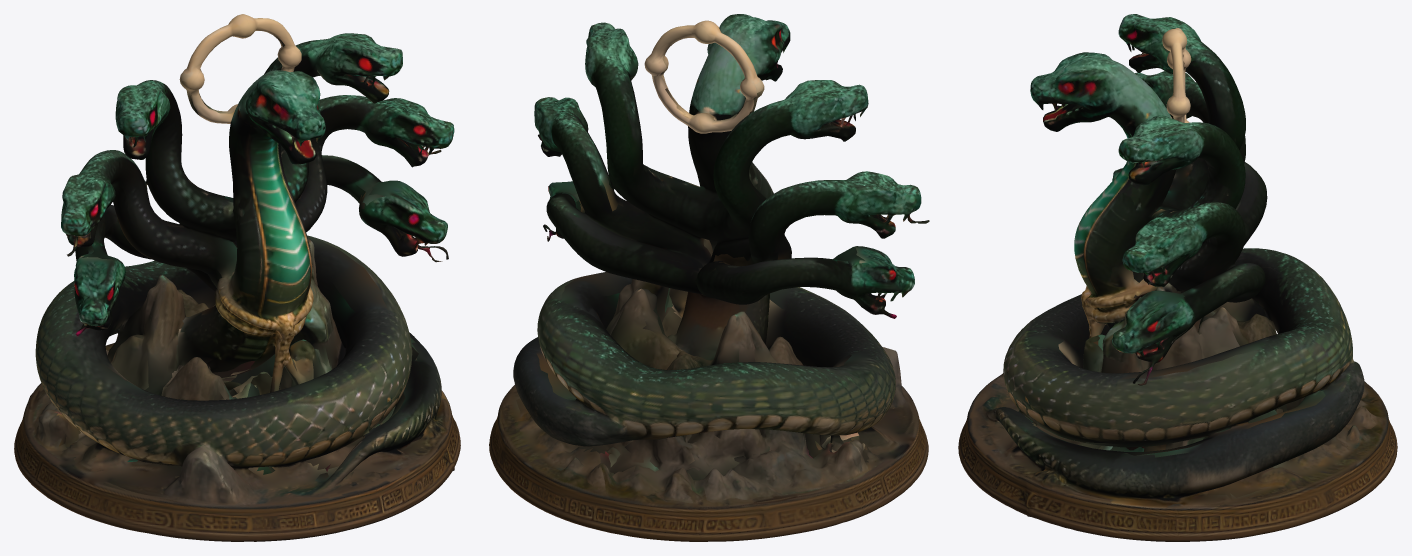
Rendered from orochi.glb.
3 renders of one model, left to right at view 1: azimuth 30°, elevation 25°; view 2: azimuth 150°, elevation 25°; view 3: azimuth 270°, elevation 25°, orthographic. The views are drawn at different scales.
Visible parts, largest first — view 1: texture_pbr_v128; view 2: texture_pbr_v128; view 3: texture_pbr_v128.
Boxes of the visible parts, x1,y1,x2,y2 form: texture_pbr_v128: (14, 14, 460, 541); texture_pbr_v128: (489, 14, 929, 541); texture_pbr_v128: (958, 14, 1397, 541).
Size of the model in its own units: 0.8268 by 0.8705 by 0.8191.
1 material, 1 textured.
